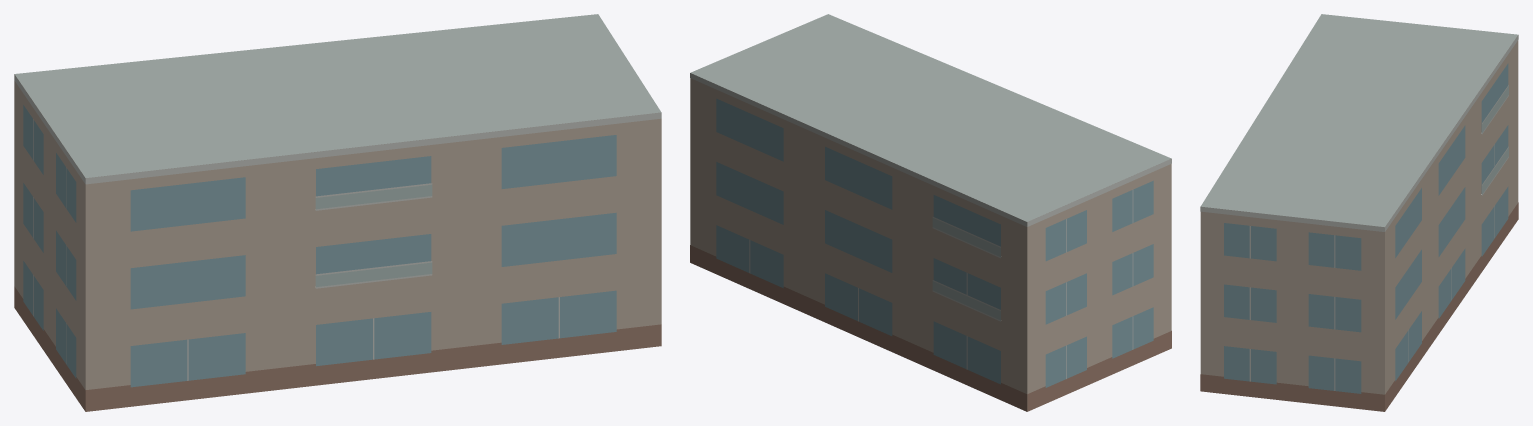
The model's file is survey-upis-33011836.glb.
3 renders of one model, left to right at view 1: azimuth 30°, elevation 25°; view 2: azimuth 150°, elevation 25°; view 3: azimuth 270°, elevation 25°, orthographic. The views are drawn at different scales.
Parts seen in each view (by area): view 1: survey-upis-33011836.tmp; view 2: survey-upis-33011836.tmp; view 3: survey-upis-33011836.tmp.
Part boxes in pixels (x1=…): survey-upis-33011836.tmp: x1=14, y1=14, x2=661, y2=411; survey-upis-33011836.tmp: x1=690, y1=14, x2=1171, y2=411; survey-upis-33011836.tmp: x1=1200, y1=14, x2=1518, y2=411.
Size of the model in its own units: 22.54 by 9.1 by 14.21.
